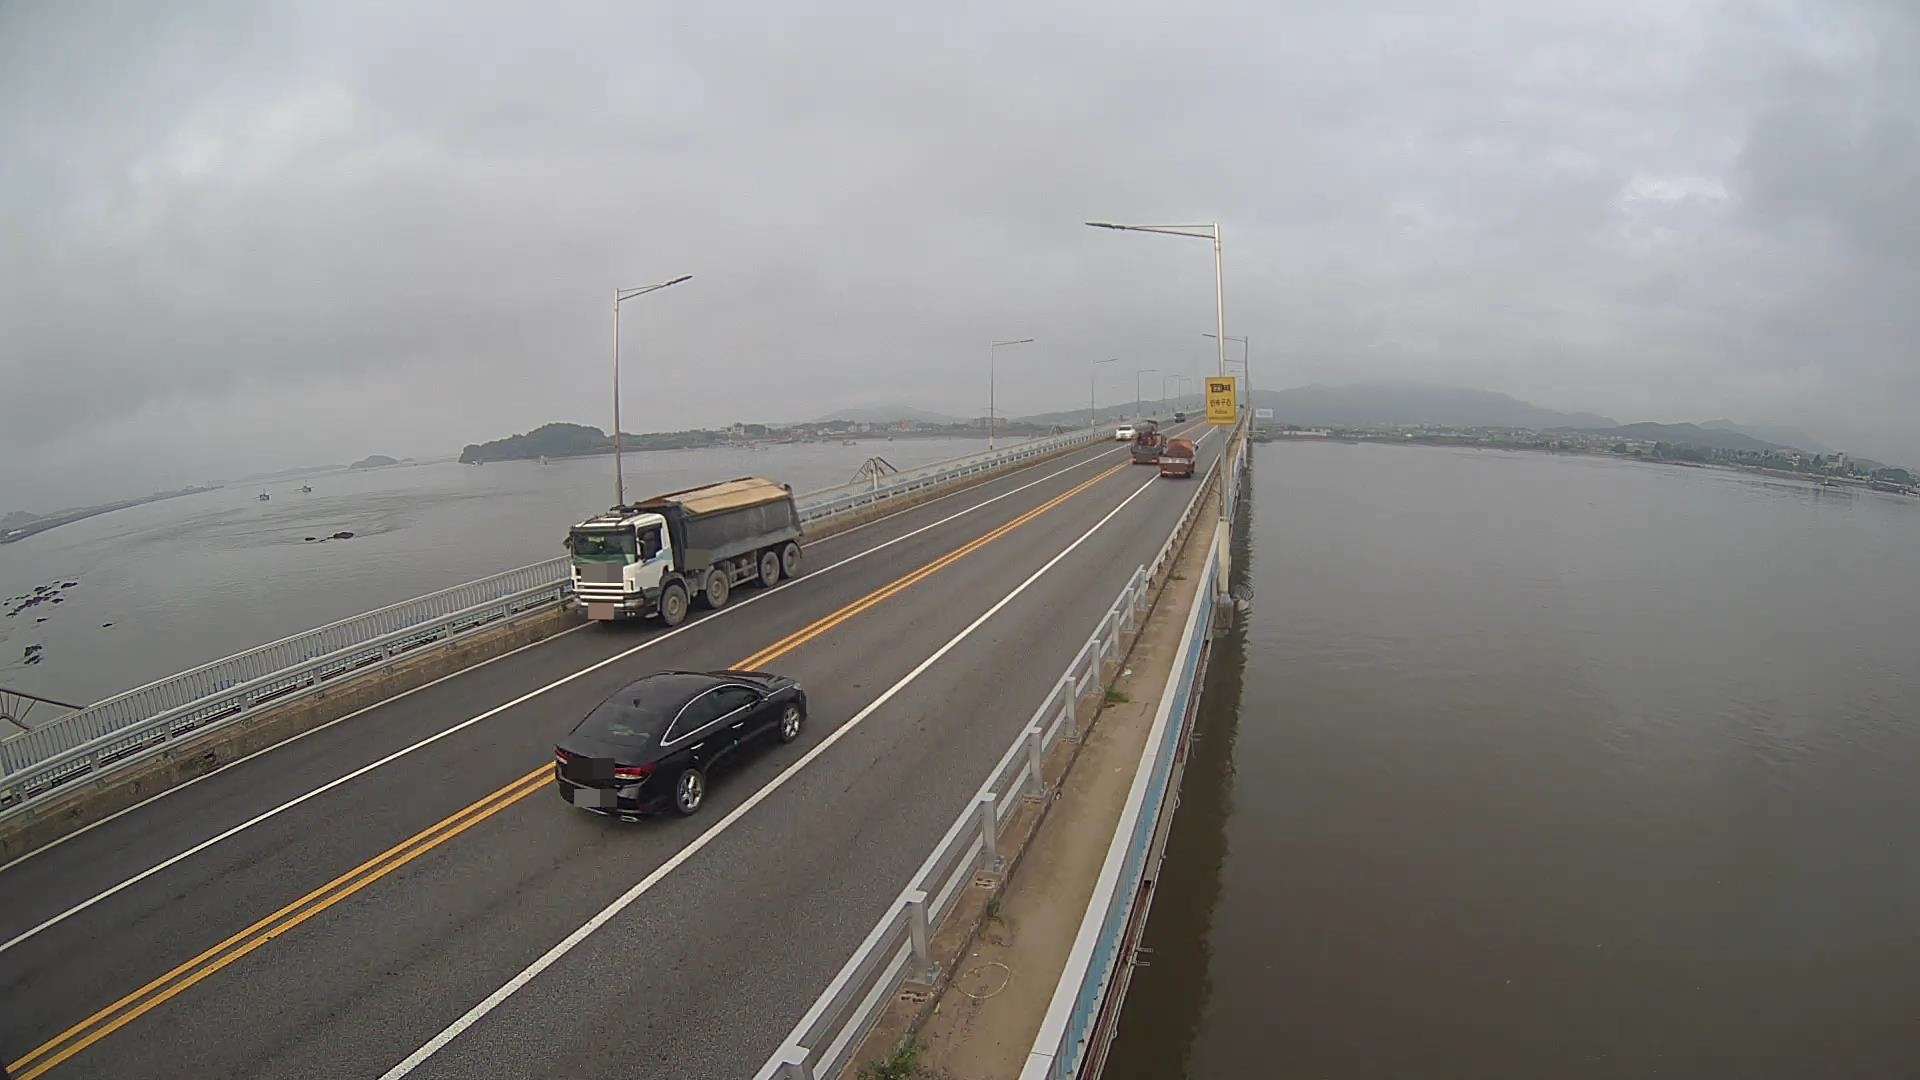정상차량: (560, 475, 806, 628)
